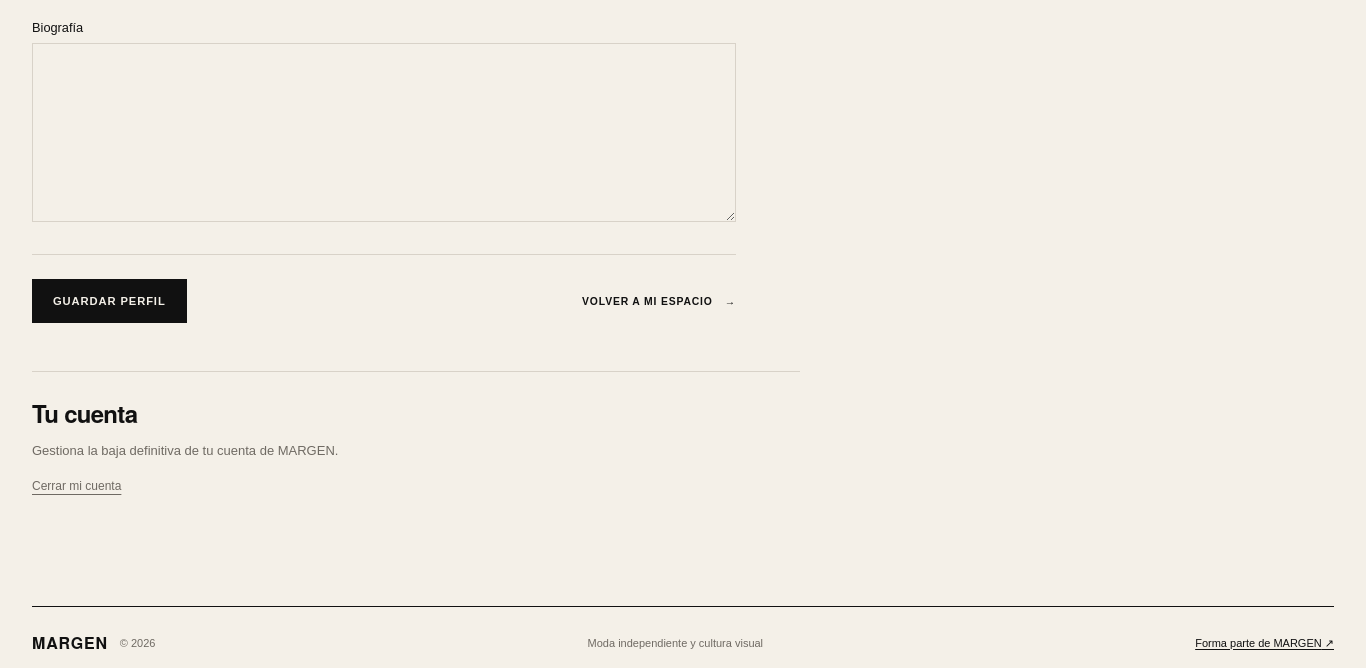
Scenario: Explicit account closure › can cancel the final confirmation without a deletion request
The width and height of the screenshot is (1366, 668).
(page scrolled)
Click the button "Cerrar mi cuenta".
click(77, 486)  # box [32,480,121,494]
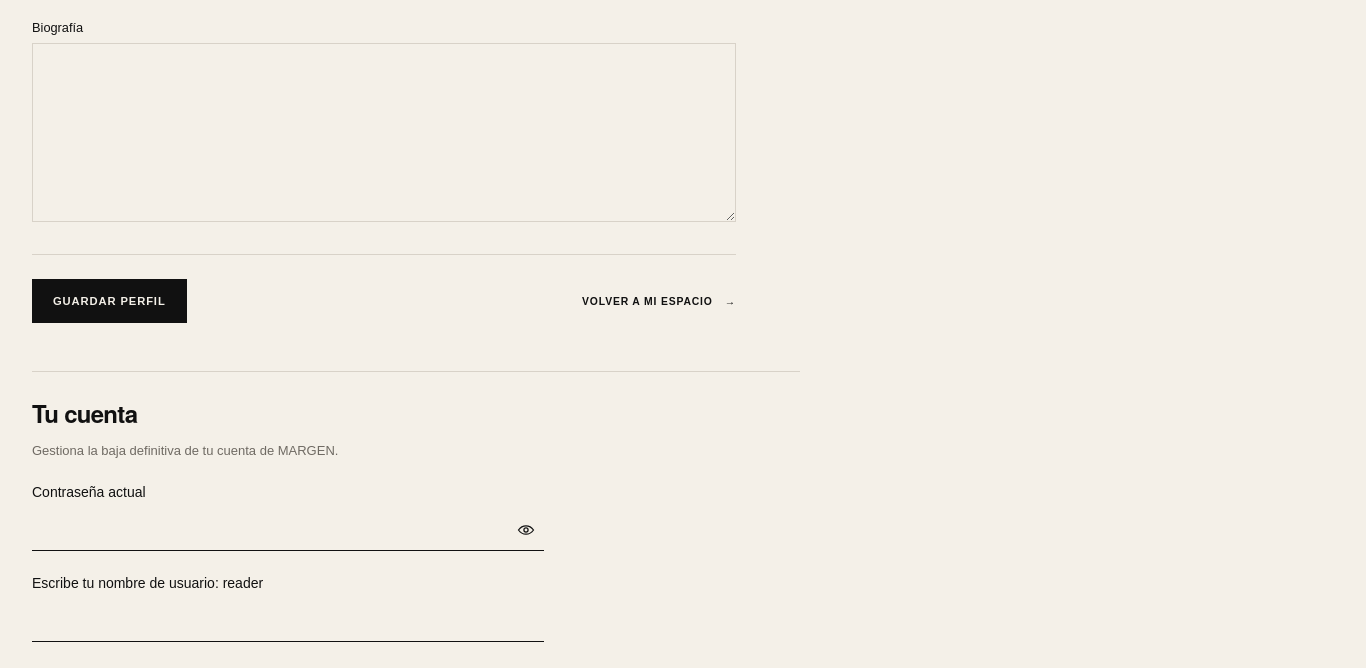
Type "CorrectPassword123!" into the password field labelled "Contraseña actual".
click(288, 530); type("CorrectPassword123!")  # box [32,508,544,552]
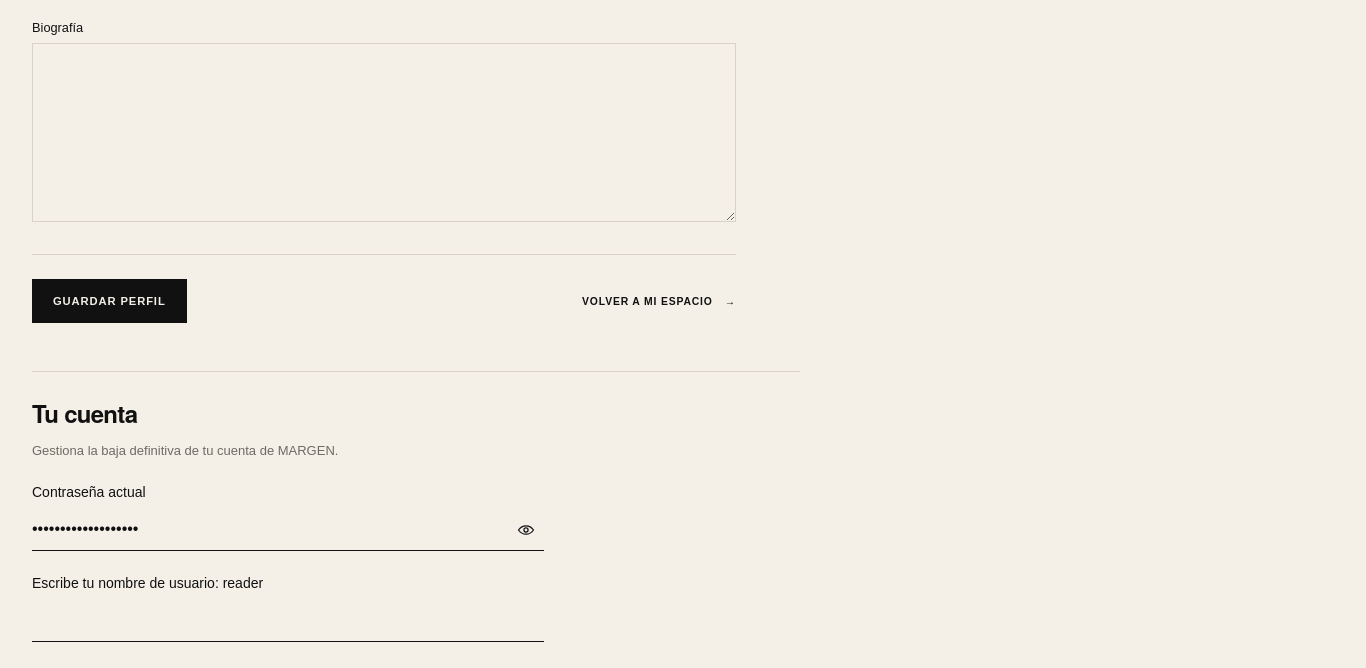
Type "reader" into the field labelled "Escribe tu nombre de usuario: reader".
click(288, 621); type("reader")  # box [32,600,544,642]
(page scrolled)
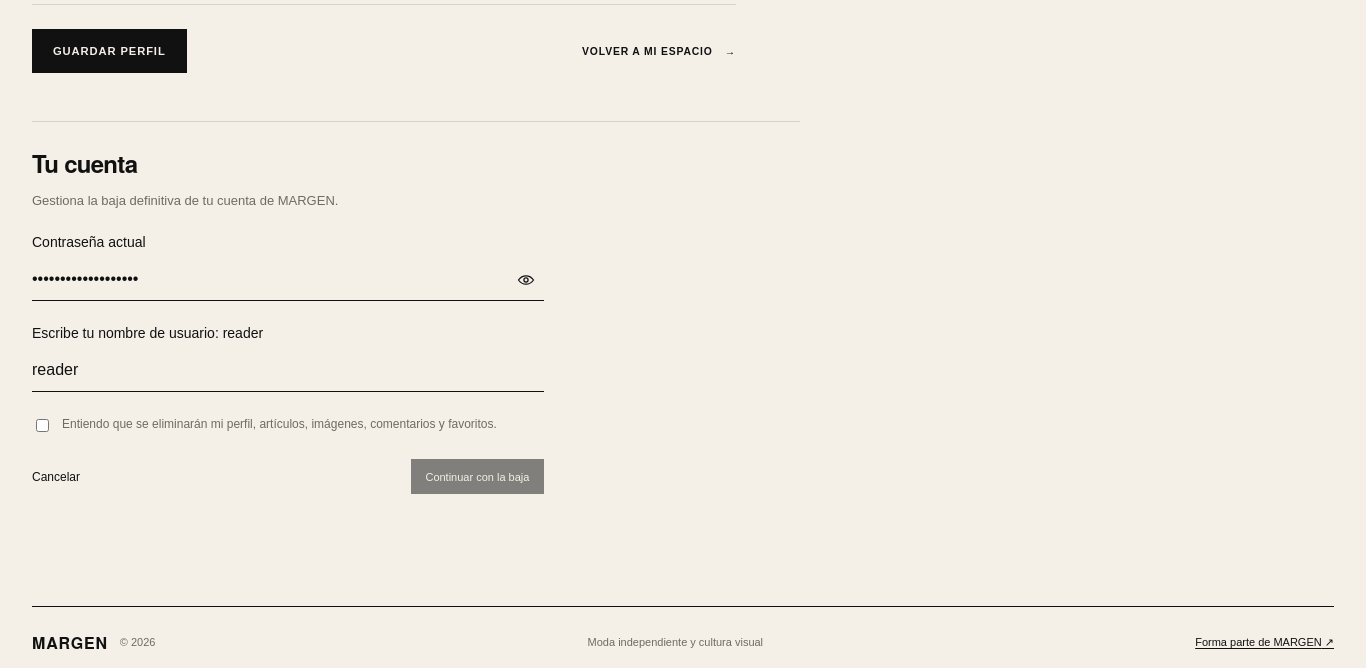
Click the checkbox labelled "Entiendo que se eliminarán".
click(42, 426)  # box [36,420,49,432]
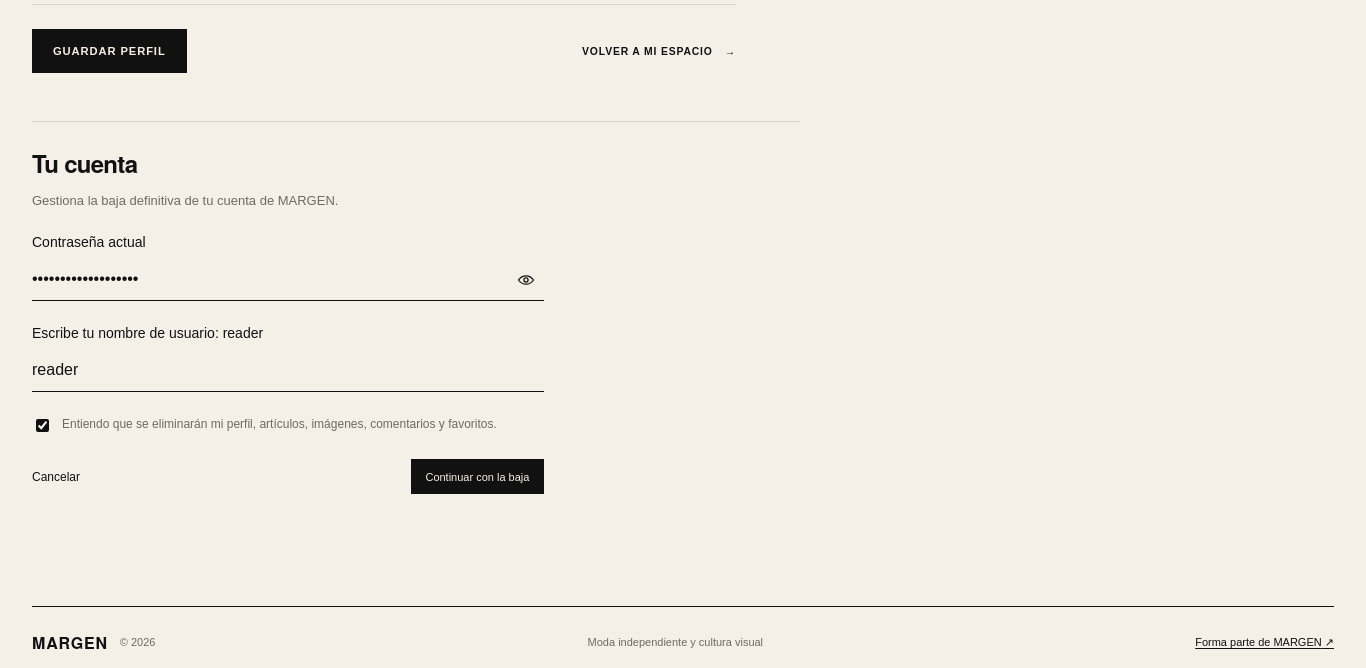
Click the button "Continuar con la baja".
click(477, 477)  # box [411,460,544,494]
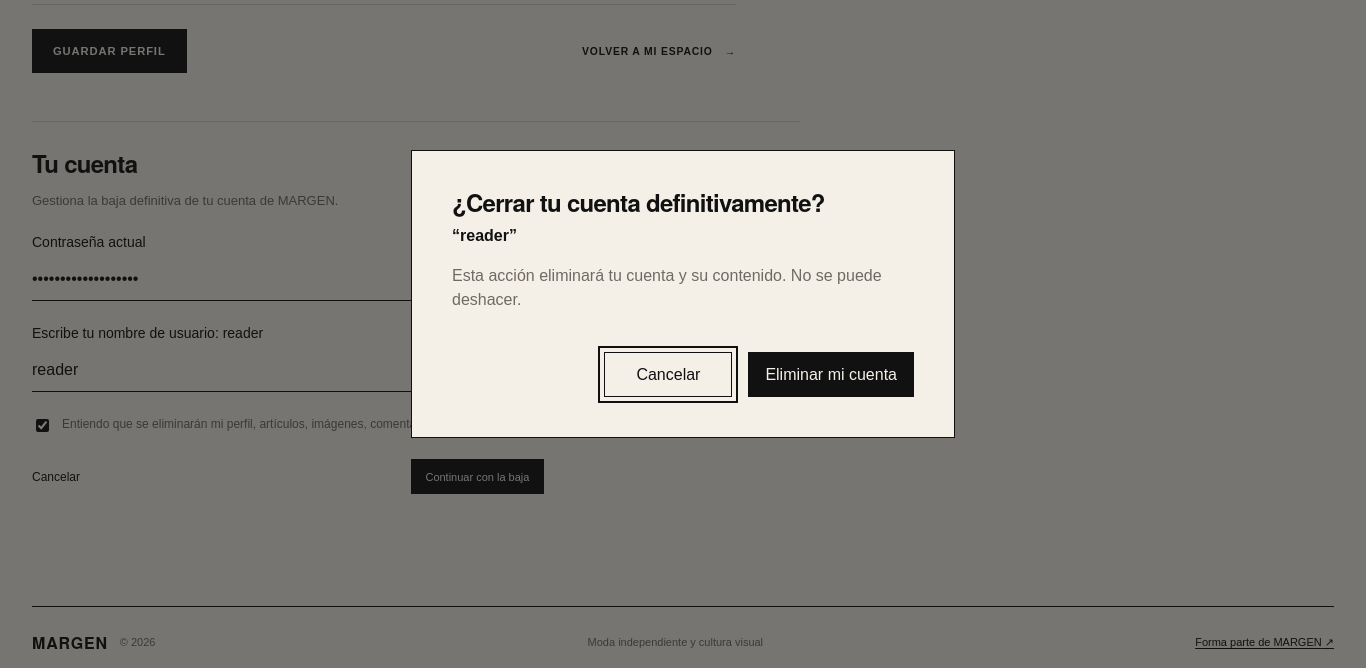
Click the button "Cancelar".
click(668, 375)  # box [604,352,732,397]
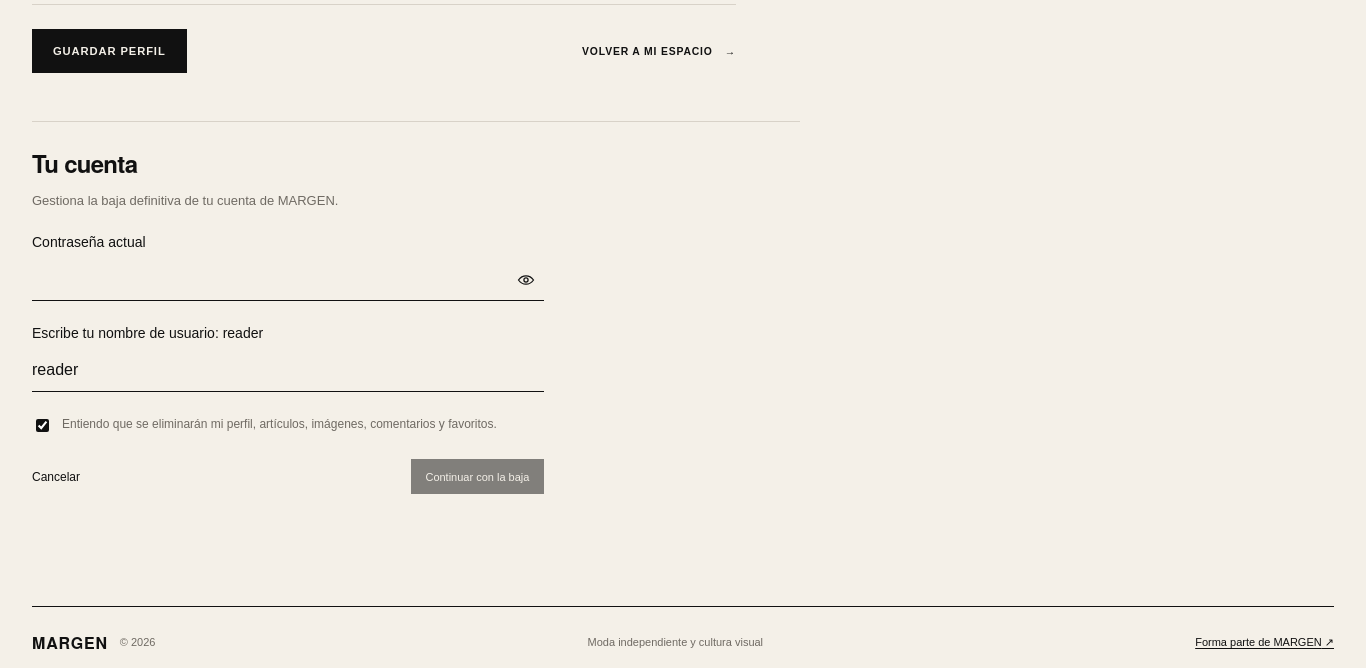
Expected: the password field labelled "Contraseña actual" is empty, [32,258,544,302]
